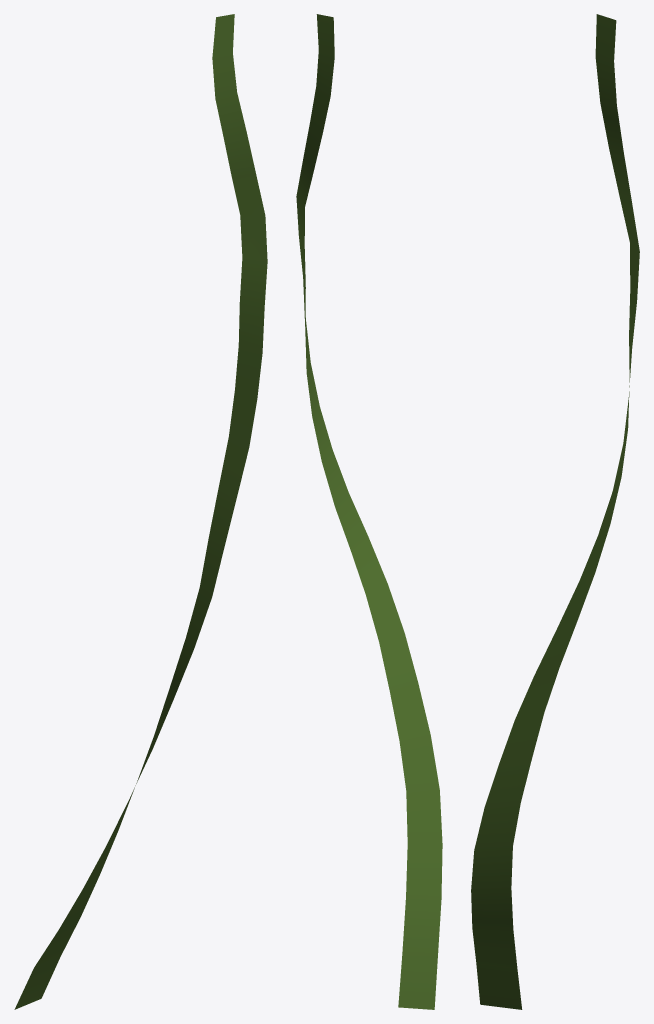
The model's file is plant_swamp_kelp_long_solo_M.fbx.
3 renders of one model, left to right at view 1: azimuth 30°, elevation 25°; view 2: azimuth 150°, elevation 25°; view 3: azimuth 330°, elevation 25°, orthographic. The views are drawn at different scales.
Parts seen in each view (by area): view 1: plant_swamp_kelp_long_solo_M; view 2: plant_swamp_kelp_long_solo_M; view 3: plant_swamp_kelp_long_solo_M.
Boxes of the visible parts, x1,y1,x2,y2 form: plant_swamp_kelp_long_solo_M: (14, 14, 267, 1009); plant_swamp_kelp_long_solo_M: (296, 14, 442, 1009); plant_swamp_kelp_long_solo_M: (471, 14, 639, 1009).
Bounding box in the file's own units: 54.59 × 259 × 33.52.
